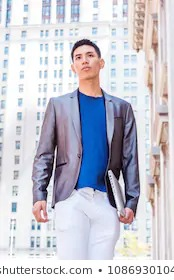F_M_suit jacket: (25, 82, 142, 220)
